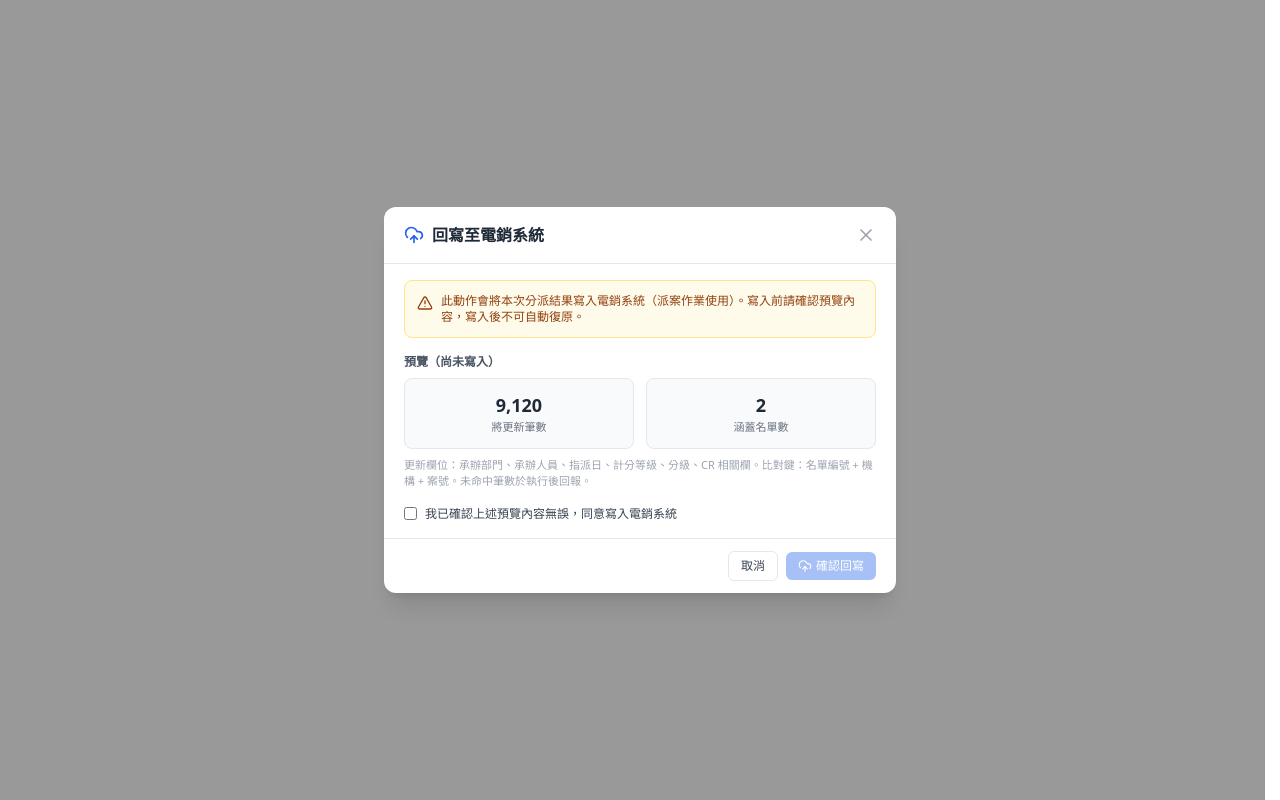
it: WritebackModal (F115) › 確認前「確認回寫」為 disabled；勾選後啟用並可執行
This screenshot has width=1280, height=800.
Expected: the text "9,120" is shown, [496, 393, 542, 417]
Expected: the button with test id "writeback-execute-btn" is disabled, [786, 552, 876, 580]
Click the checkbox with test id "writeback-confirm-checkbox" at (410, 514), box [404, 507, 417, 520]
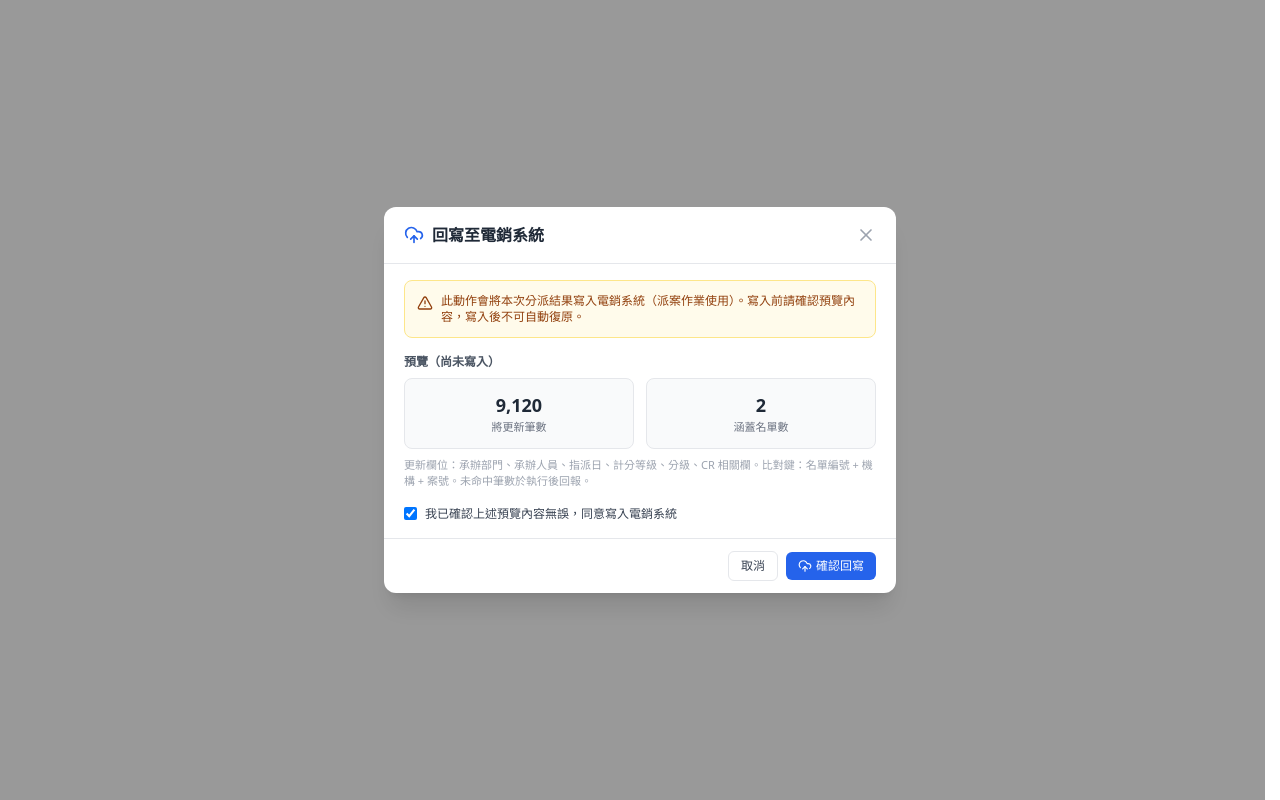
Now the button with test id "writeback-execute-btn" is enabled
Click the button with test id "writeback-execute-btn" at (831, 566), box [786, 552, 876, 580]
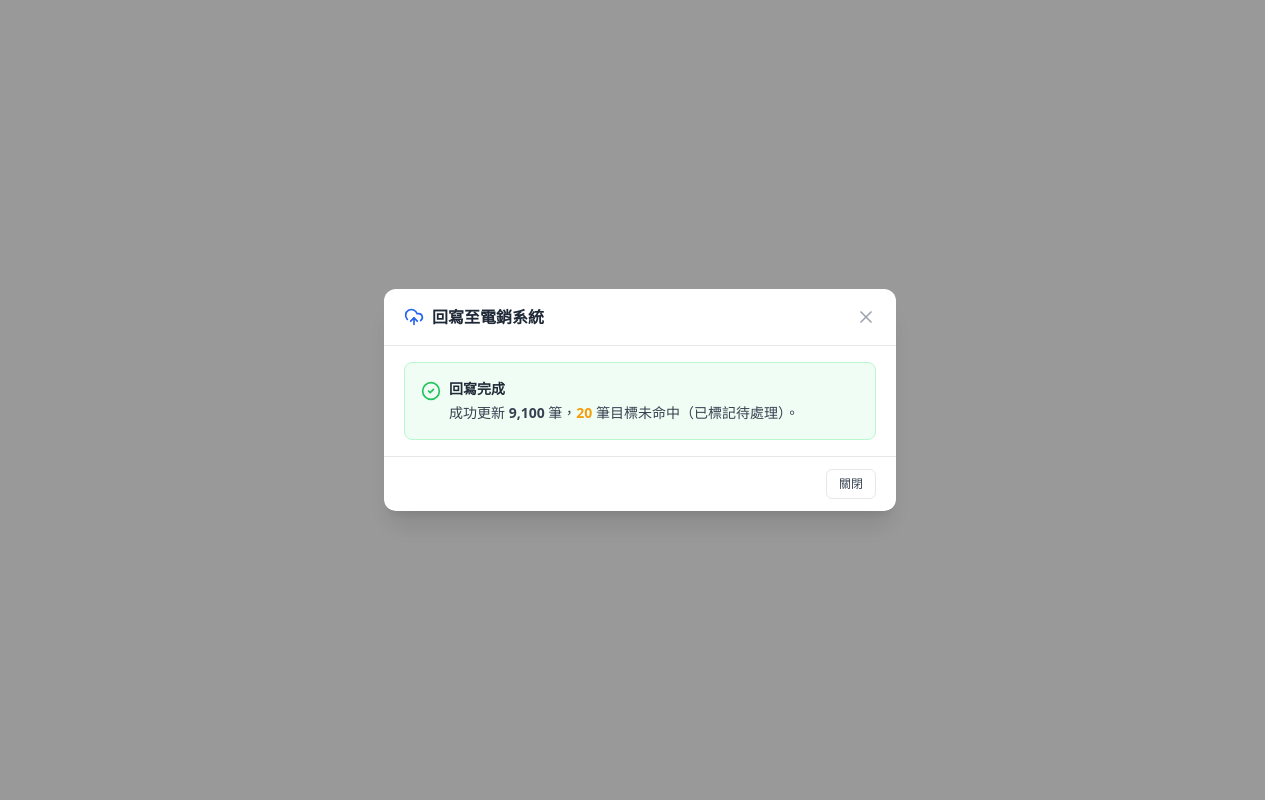
Now the element with test id "writeback-result" shows "9,100", box [509, 403, 545, 422]
